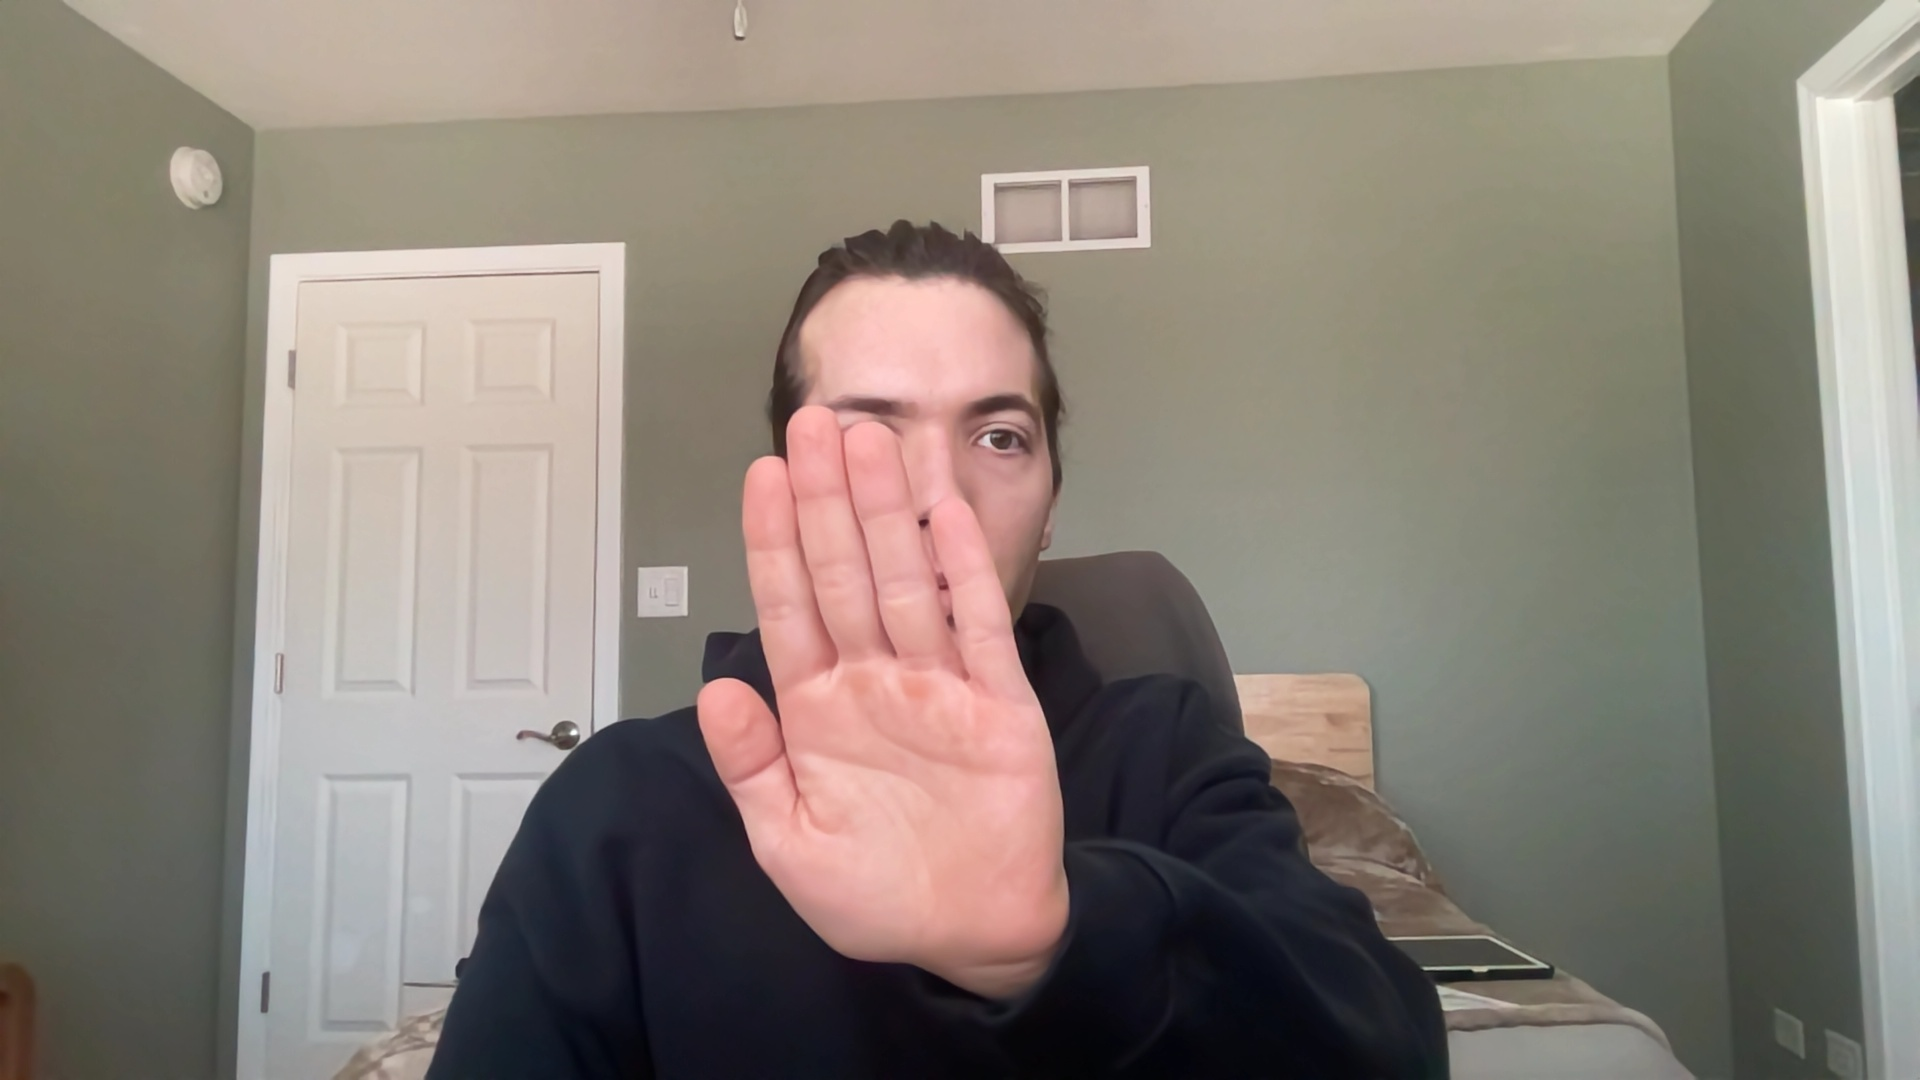Hello: (671, 394, 1108, 992)
